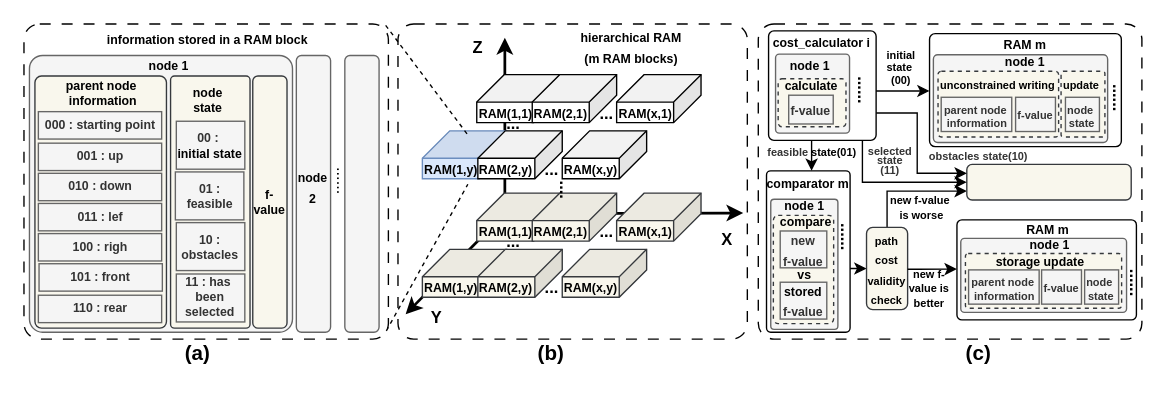
This 1171x408 diagram has some shape labels left out. Each missing label, with the box of its shape:
node n: (343, 54, 379, 332)
storage remains unchanged: (965, 163, 1131, 200)
